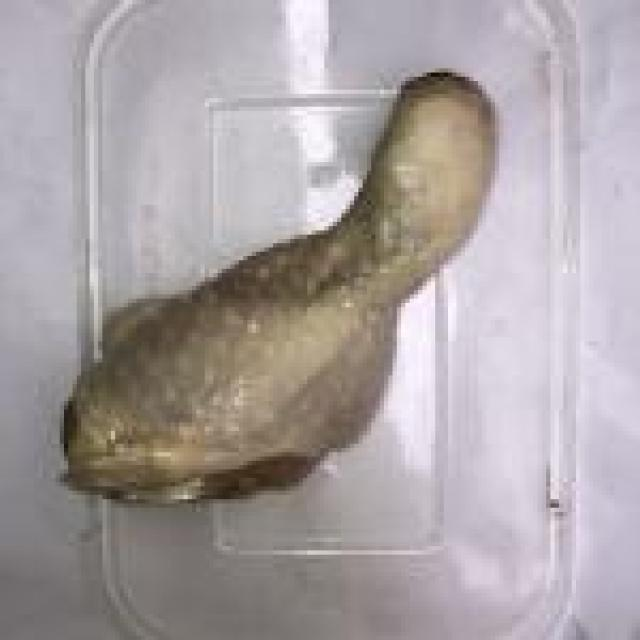leg: (70, 72, 514, 512)
